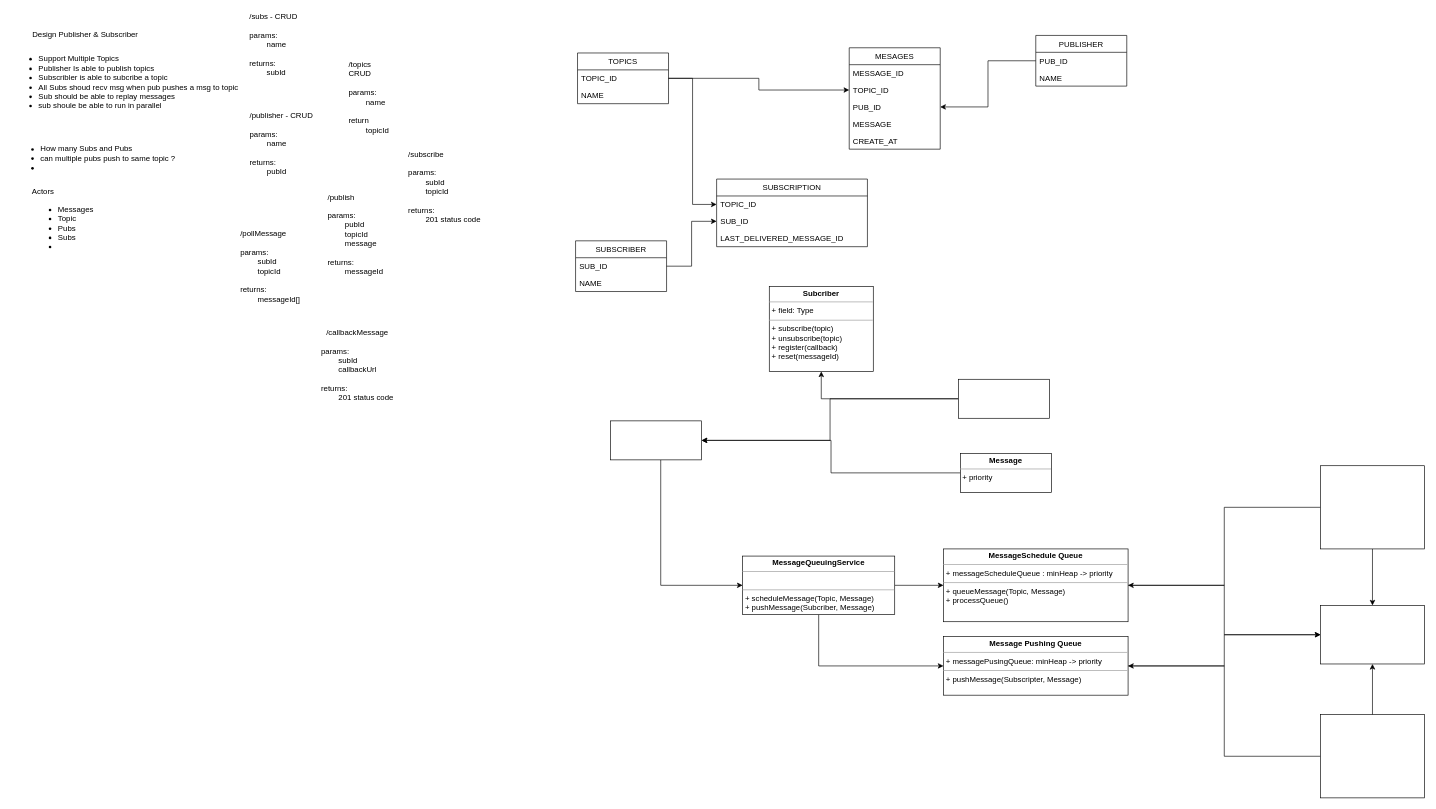
Some shapes in this 1436 by 809 pixel diagram are drawn without their labels. The shapes that lost their labels are listed below. From the top down, each one's centre as x and y in pixels, then its label:
At pixel 1003 398: "Topic + subscriberQueue".
At pixel 656 440: "Publiser publish(message, topic)".
At pixel 1372 507: "Schedule Runner + Topic + Message + fetchAllSubs(): + pushMessages()".
At pixel 1372 634: "Parallel Executors + thread Executors + submitJob(runner)".
At pixel 1372 756: "PushRunner + Subscriber + Message + fetchAllSubs(): + pushMessages()".
